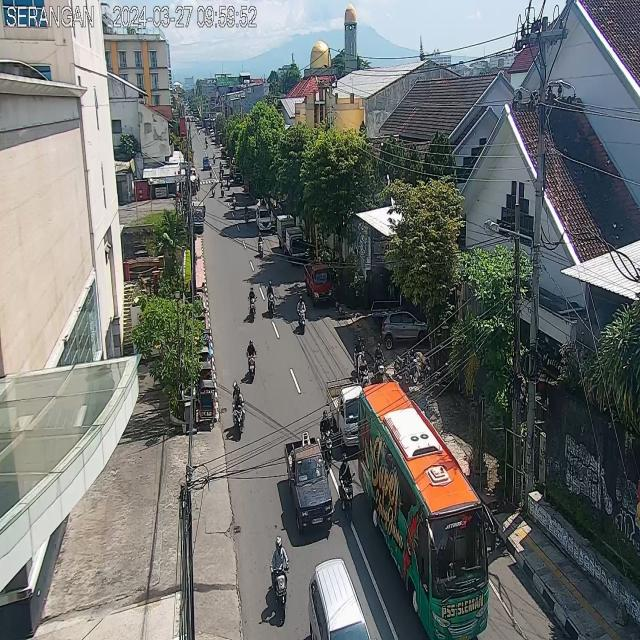bus: (361, 380, 492, 640)
car: (308, 557, 368, 640), (255, 204, 272, 232)
motorcycle: (268, 536, 290, 624), (338, 452, 355, 523), (232, 381, 246, 438), (321, 411, 332, 467), (246, 338, 258, 384), (373, 341, 386, 383), (356, 354, 369, 388), (296, 292, 306, 334), (266, 278, 276, 318), (353, 336, 365, 368), (248, 285, 256, 322), (257, 232, 264, 258), (244, 203, 250, 224), (211, 181, 216, 198), (220, 181, 225, 197), (232, 191, 236, 210), (226, 176, 231, 190), (221, 165, 225, 176), (218, 170, 222, 180), (213, 152, 216, 164), (210, 163, 212, 178), (219, 160, 222, 170), (206, 141, 208, 149)
truck: (282, 430, 332, 534), (327, 377, 368, 449), (305, 260, 332, 306), (286, 228, 306, 264), (276, 212, 294, 249)
